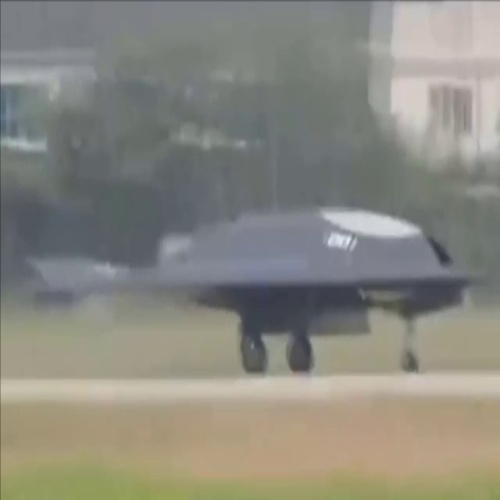uav1050: (103, 196, 492, 384)
